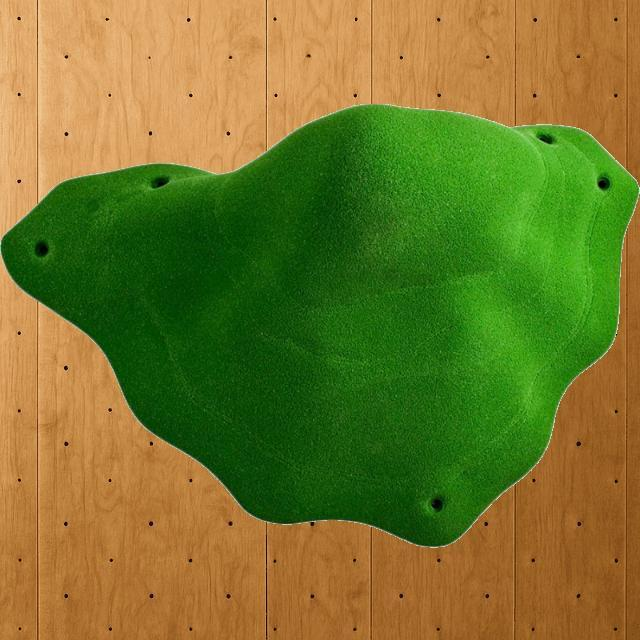Jug: (1, 101, 638, 546)
